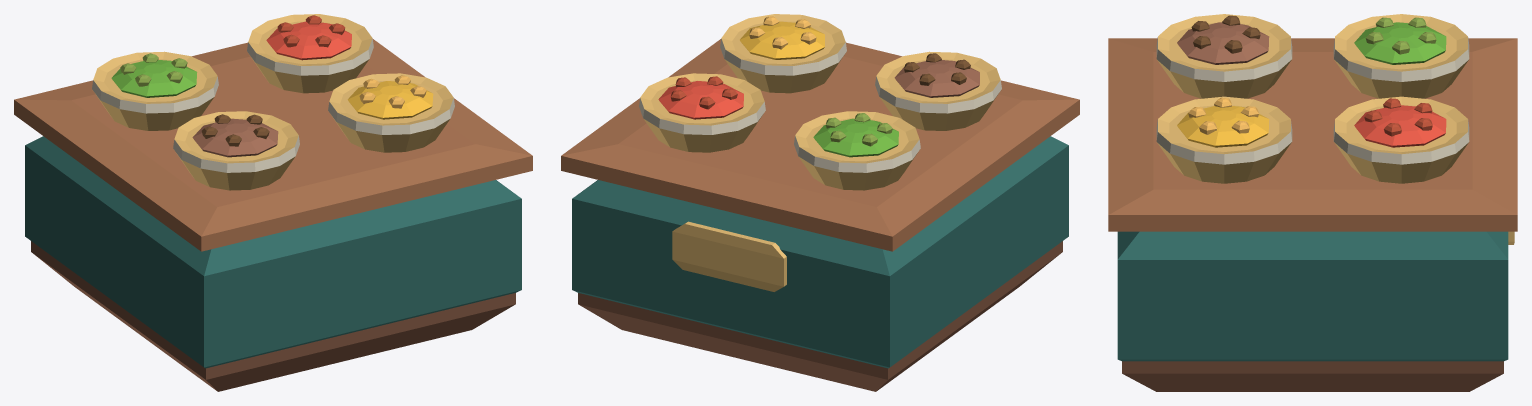
File: counter.obj
3 views of the same model, side by side, from view 1: azimuth 30°, elevation 25°; view 2: azimuth 150°, elevation 25°; view 3: azimuth 270°, elevation 25° (orthographic). The views are drawn at different scales.
Parts seen in each view (by area): view 1: counter; view 2: counter; view 3: counter.
Part boxes in pixels (bbox=[...]): counter: bbox=[14, 14, 532, 391]; counter: bbox=[561, 14, 1079, 391]; counter: bbox=[1108, 14, 1517, 391].
Bounding box in the file's own units: 0.92 × 0.6165 × 0.9.
